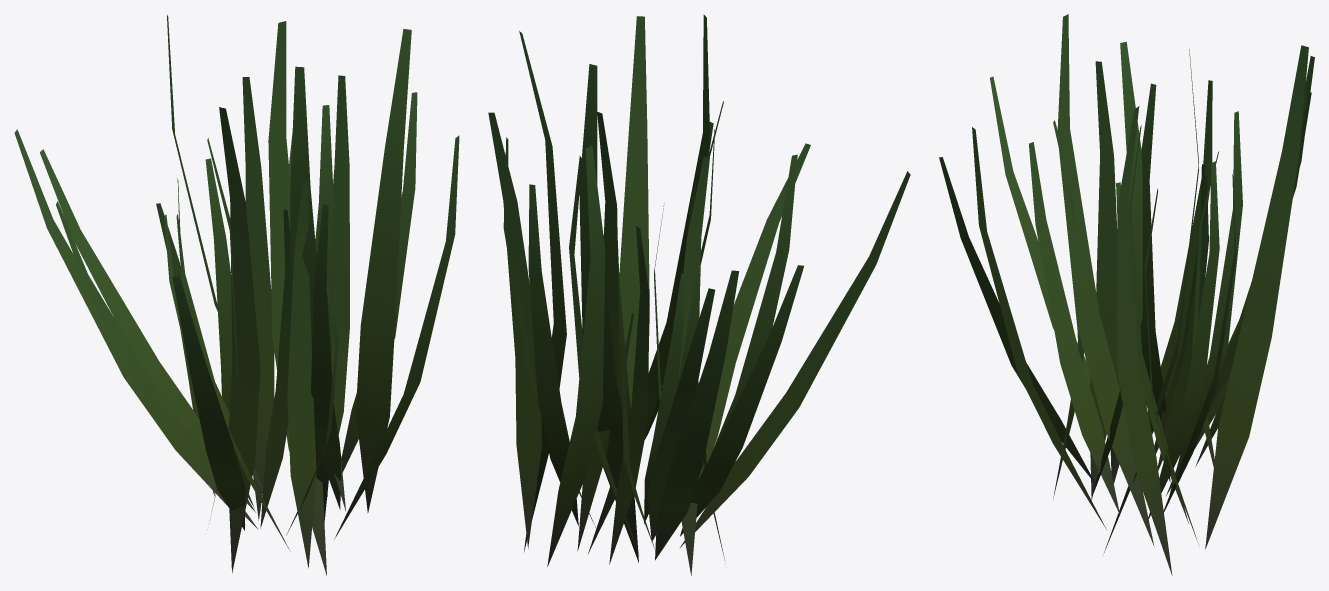
File: underwater-aquatic-plants-seagrass_v2.glb
3 views of the same model, side by side, from view 1: azimuth 30°, elevation 25°; view 2: azimuth 150°, elevation 25°; view 3: azimuth 270°, elevation 25° (orthographic). The views are drawn at different scales.
Visible parts, largest first — view 1: Seagrass_v2; view 2: Seagrass_v2; view 3: Seagrass_v2.
Part boxes in pixels (x1,y1,x2,y2): Seagrass_v2: (14, 15, 459, 575); Seagrass_v2: (488, 14, 910, 575); Seagrass_v2: (939, 14, 1314, 575).
Size of the model in its own units: 0.3284 by 0.5 by 0.3275.
